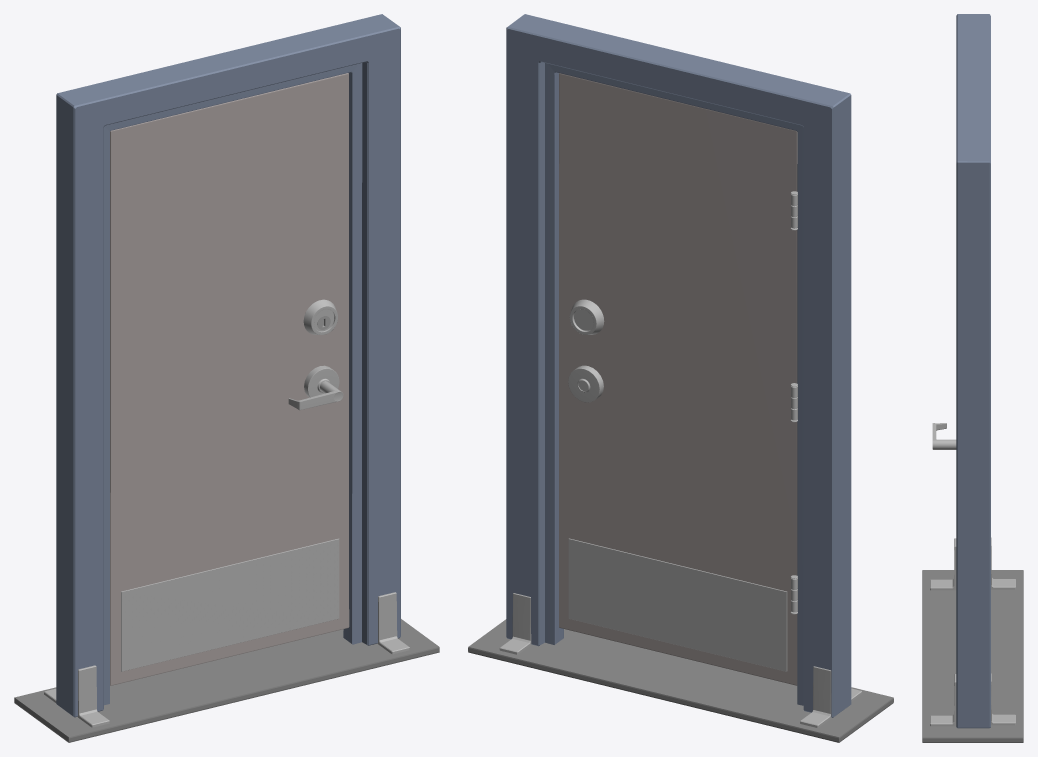
Rendered from Door.fbx.
3 renders of one model, left to right at view 1: azimuth 30°, elevation 25°; view 2: azimuth 150°, elevation 25°; view 3: azimuth 270°, elevation 25°, orthographic. The views are drawn at different scales.
Parts seen in each view (by area): view 1: DoorLocked, DoorFrame, LockFront, DoorHandle.001; view 2: DoorLocked, DoorFrame, LockBack; view 3: DoorFrame, DoorHandle.001.
Boxes of the visible parts, x1,y1,x2,y2 form: DoorLocked: (110,73,349,685); DoorFrame: (14,14,439,742); LockFront: (303,299,337,334); DoorHandle.001: (288,381,343,410); DoorLocked: (559,73,797,685); DoorFrame: (468,14,893,742); LockBack: (569,299,604,334); DoorFrame: (922,14,1023,742); DoorHandle.001: (932,423,956,449).
Size of the model in its own units: 142 by 226 by 36.24.
